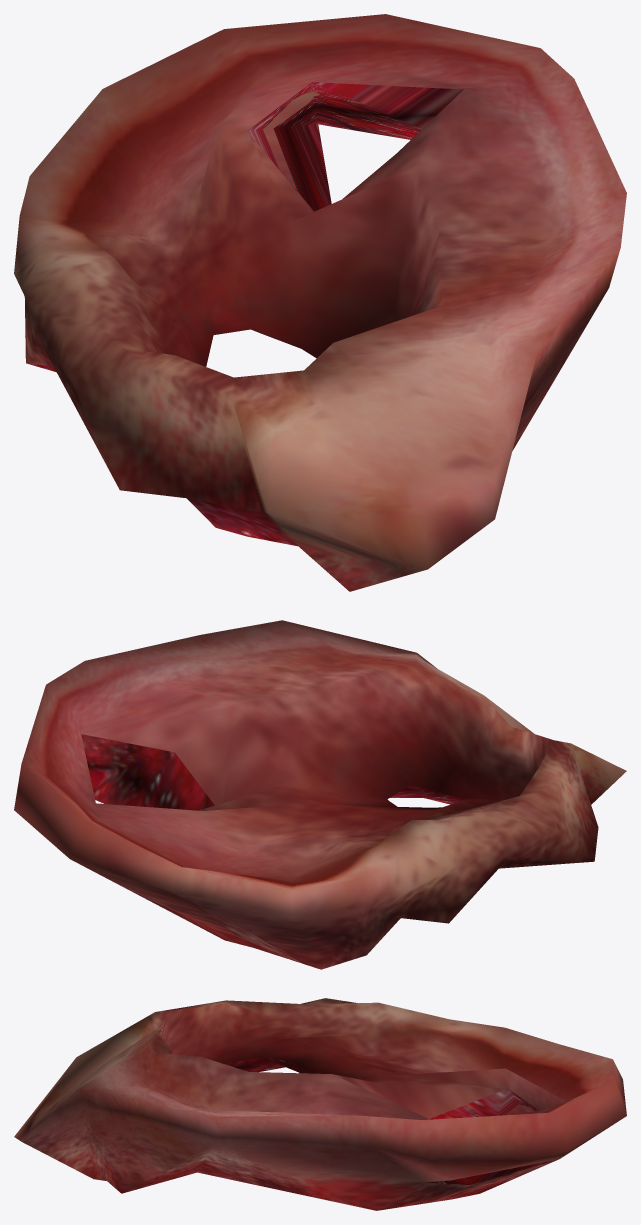
Rendered from Ear_4_low.fbx.
The picture shows the model from 3 angles, top to bottom: view 1: azimuth 30°, elevation 25°; view 2: azimuth 150°, elevation 25°; view 3: azimuth 270°, elevation 25°; orthographic projection. The views are drawn at different scales.
Visible parts, largest first — view 1: Ear_4_low; view 2: Ear_4_low; view 3: Ear_4_low.
Part boxes in pixels (left/top/right/bottom): Ear_4_low: left=14, top=14, right=626, bottom=591; Ear_4_low: left=14, top=620, right=626, bottom=969; Ear_4_low: left=14, top=998, right=626, bottom=1210.
Size of the model in its own units: 0.0296 by 0.013 by 0.0384.
